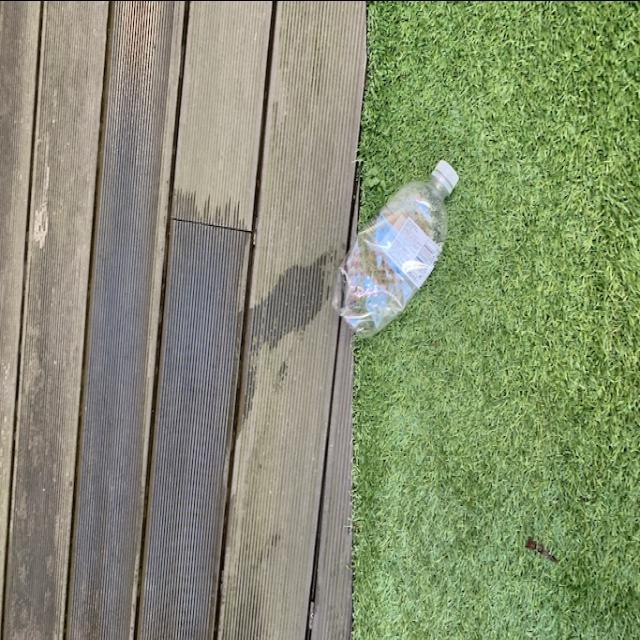litter: (330, 152, 462, 338)
